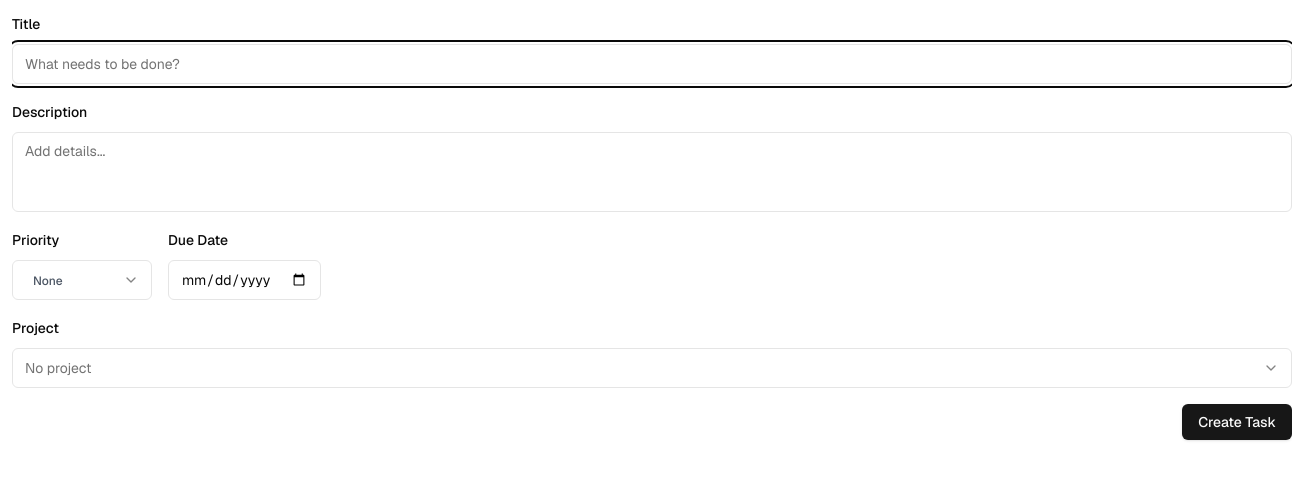
Scenario: TaskCreateForm › shows error message on submit failure
Type "My task" into the field labelled "Title" at (652, 64), box [12,44,1292,84]
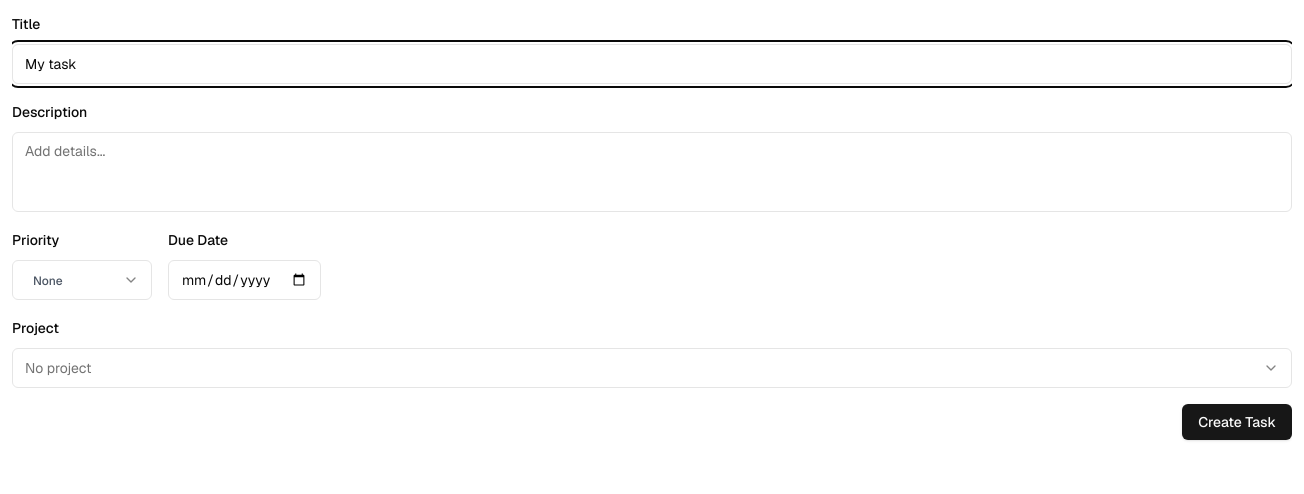
Click the button "Create Task" at (1237, 422), box [1182,404,1292,440]
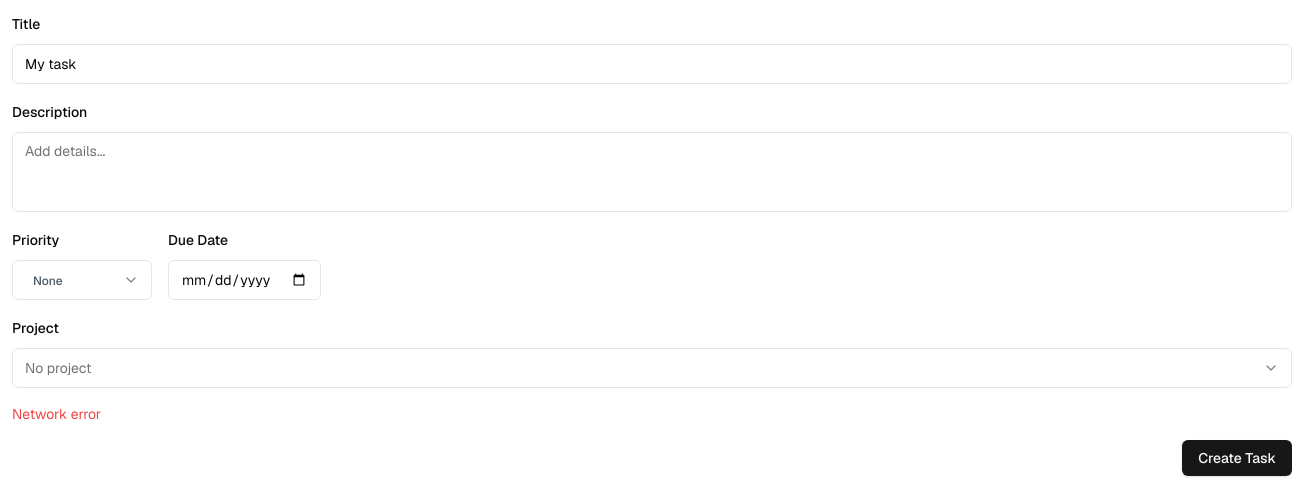
Expected: the text "Network error" is shown, [12,405,101,423]
